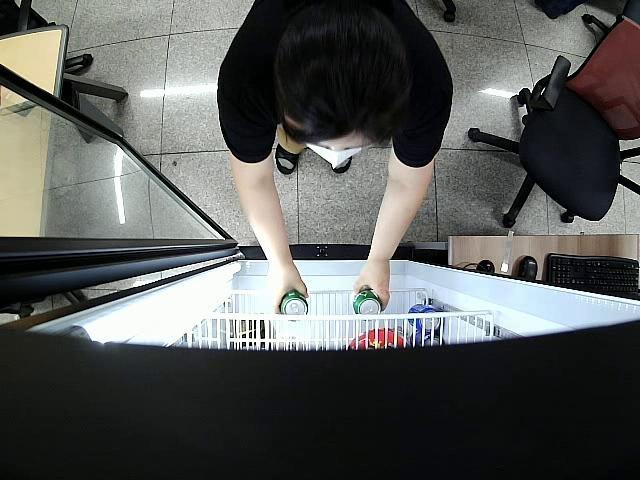12_chilsungCider: (280, 292, 309, 325), (353, 290, 380, 314)
